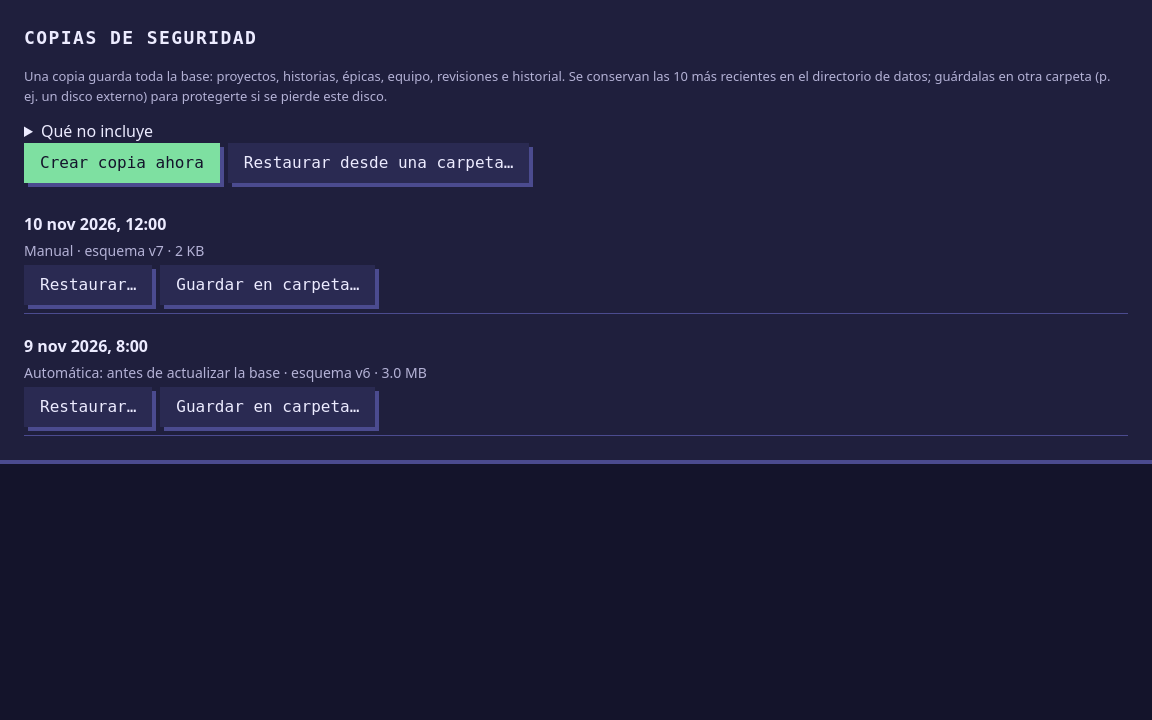
Test: BackupPanel › si la copia está dañada lo dice y la app solo refresca el estado
The width and height of the screenshot is (1152, 720).
Expected: the text "Manual · esquema v7 · 2 KB" is shown, [24,241,204,260]
Click the button "Restaurar desde una carpeta…".
click(379, 163)  # box [228,143,530,183]
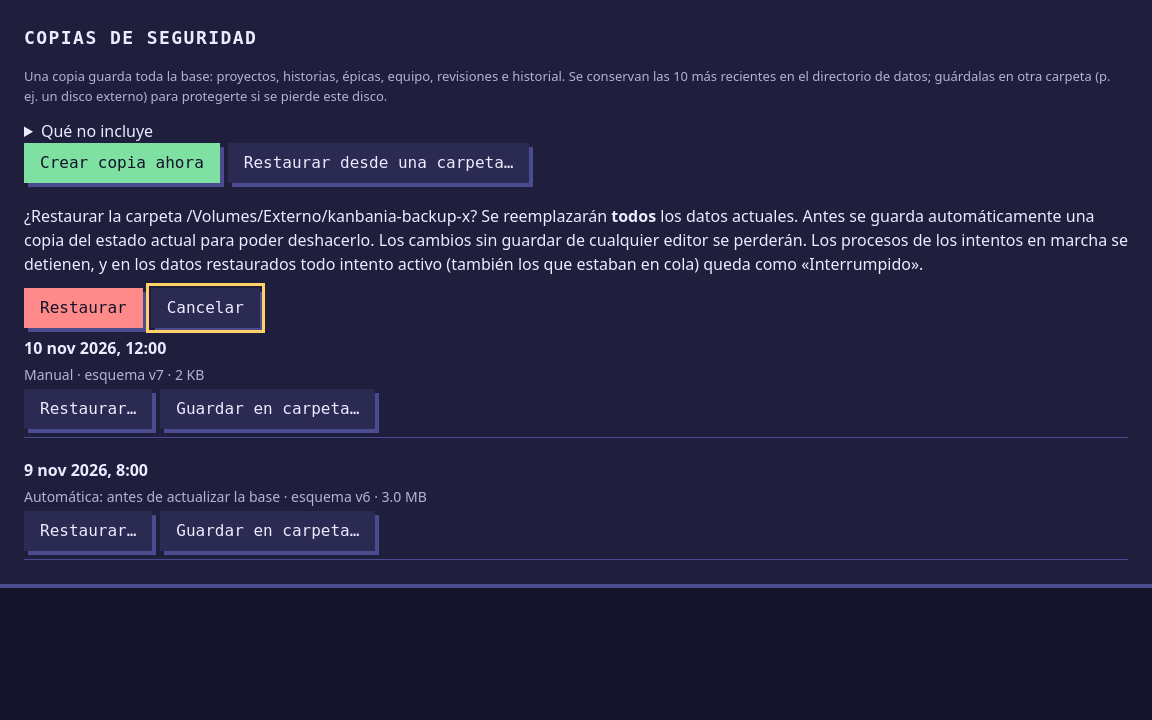
Expected: the text "la carpeta /Volumes/Externo/kanbania-backup-x" is shown, [108,205,470,227]
Click the button "Restaurar".
click(83, 308)  # box [24,288,143,328]
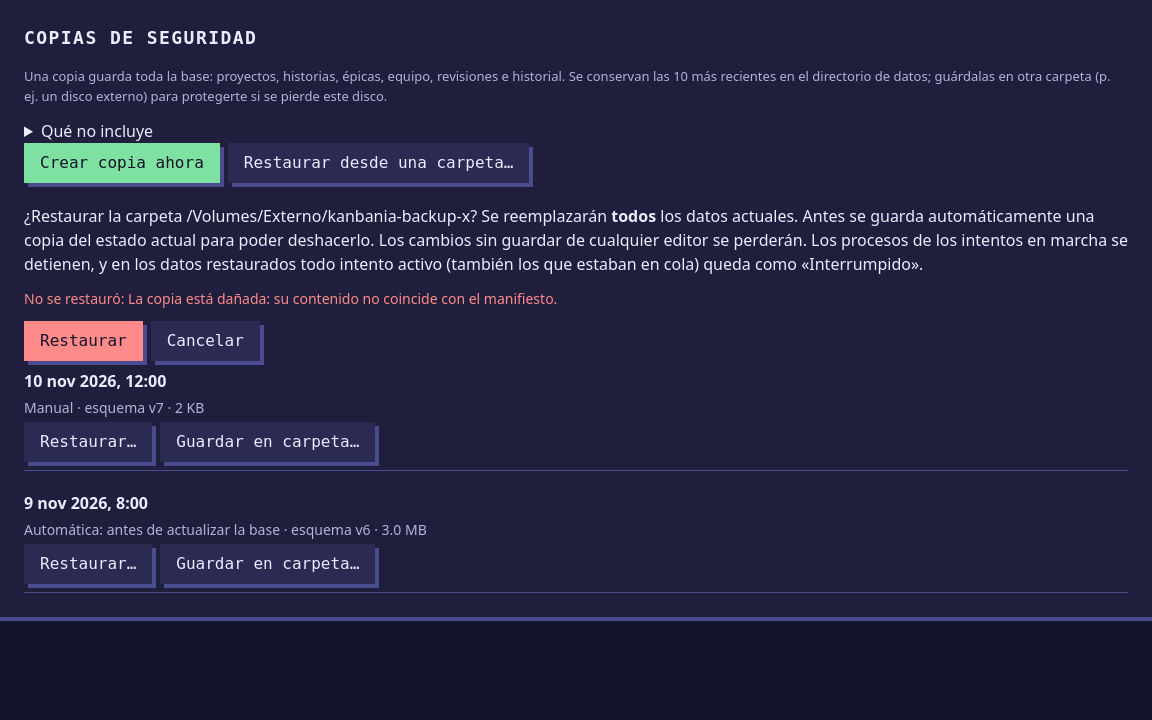
Expected: the message that starts with "No se restauró:" shows "No se restauró: La copia está dañada", [24,289,557,308]
